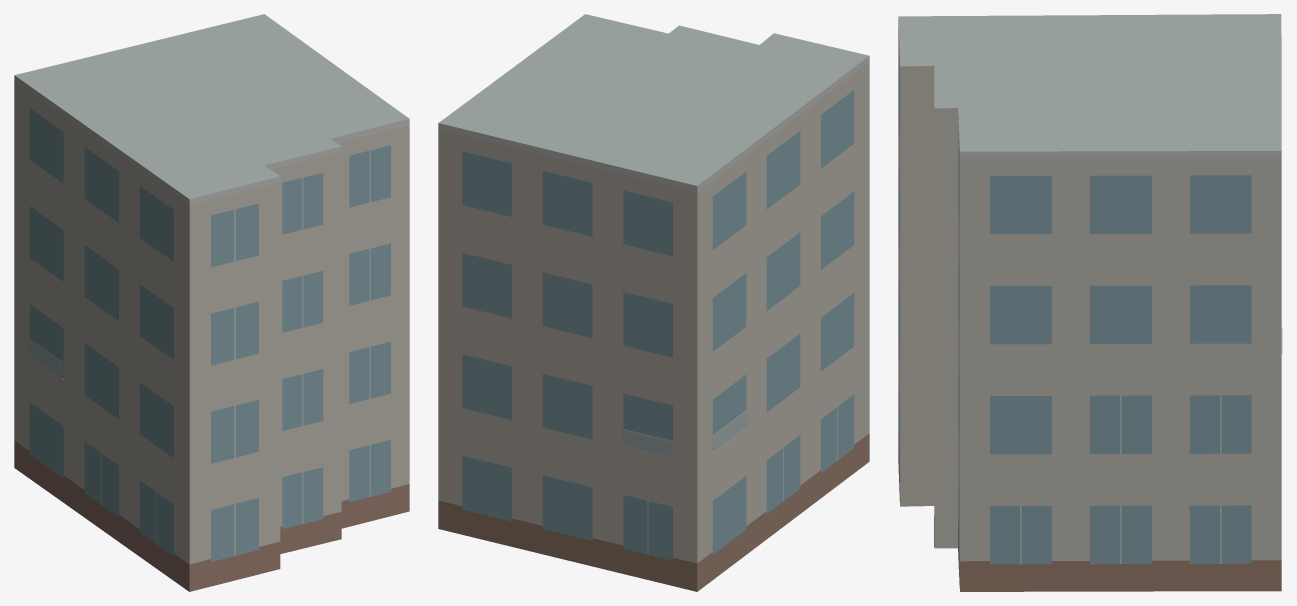
File: survey-upis-32805348.glb
The picture shows the model from 3 angles, left to right: view 1: azimuth 30°, elevation 25°; view 2: azimuth 150°, elevation 25°; view 3: azimuth 270°, elevation 25°; orthographic projection. The views are drawn at different scales.
Parts seen in each view (by area): view 1: survey-upis-32805348.tmp; view 2: survey-upis-32805348.tmp; view 3: survey-upis-32805348.tmp.
Part boxes in pixels (x1,y1,x2,y2): survey-upis-32805348.tmp: (14, 14, 409, 591); survey-upis-32805348.tmp: (438, 14, 869, 591); survey-upis-32805348.tmp: (898, 14, 1282, 591).
Size of the model in its own units: 10.43 by 15.5 by 12.27.
